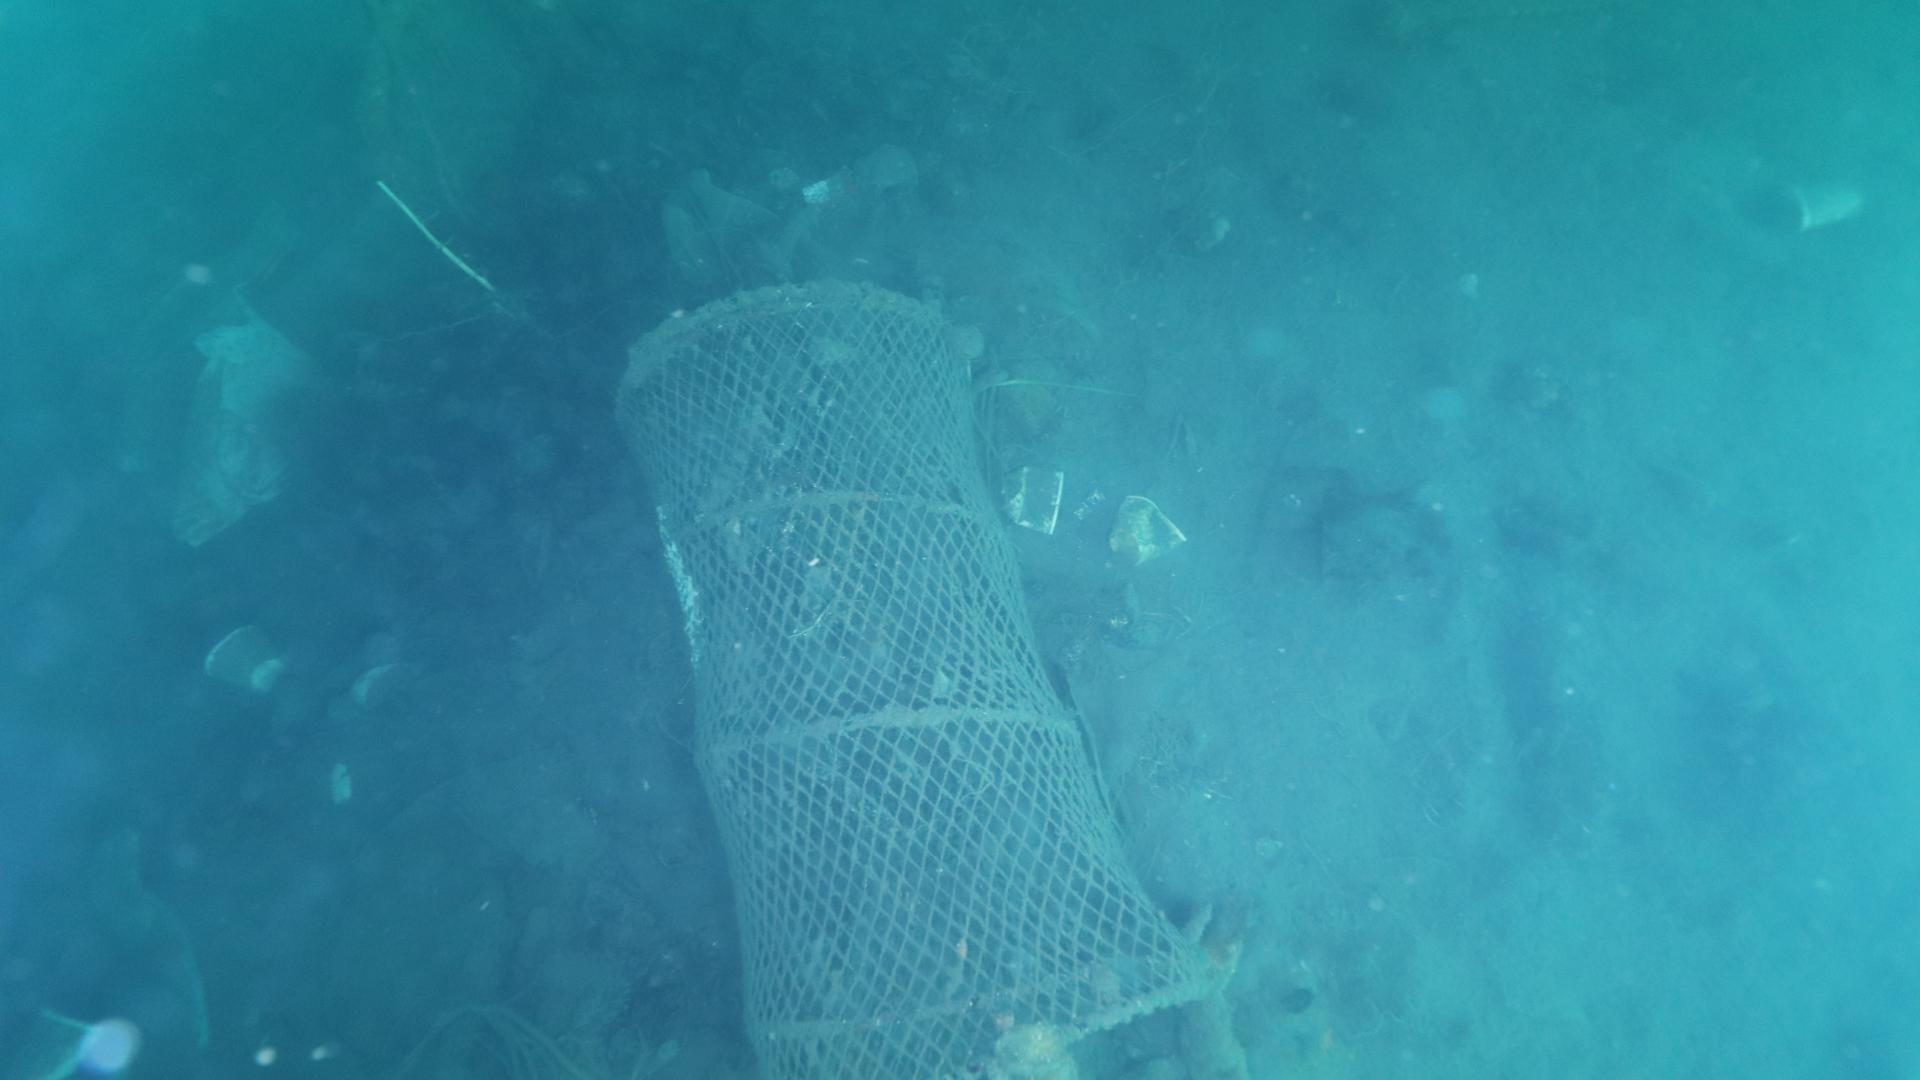spring fish trap: (607, 284, 1215, 1073)
